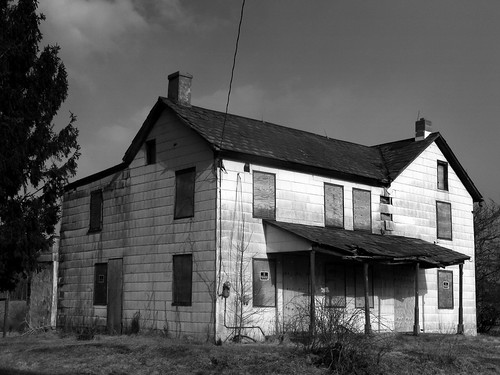building: (59, 113, 480, 334)
sky: (88, 1, 500, 150)
tree: (1, 1, 70, 257)
